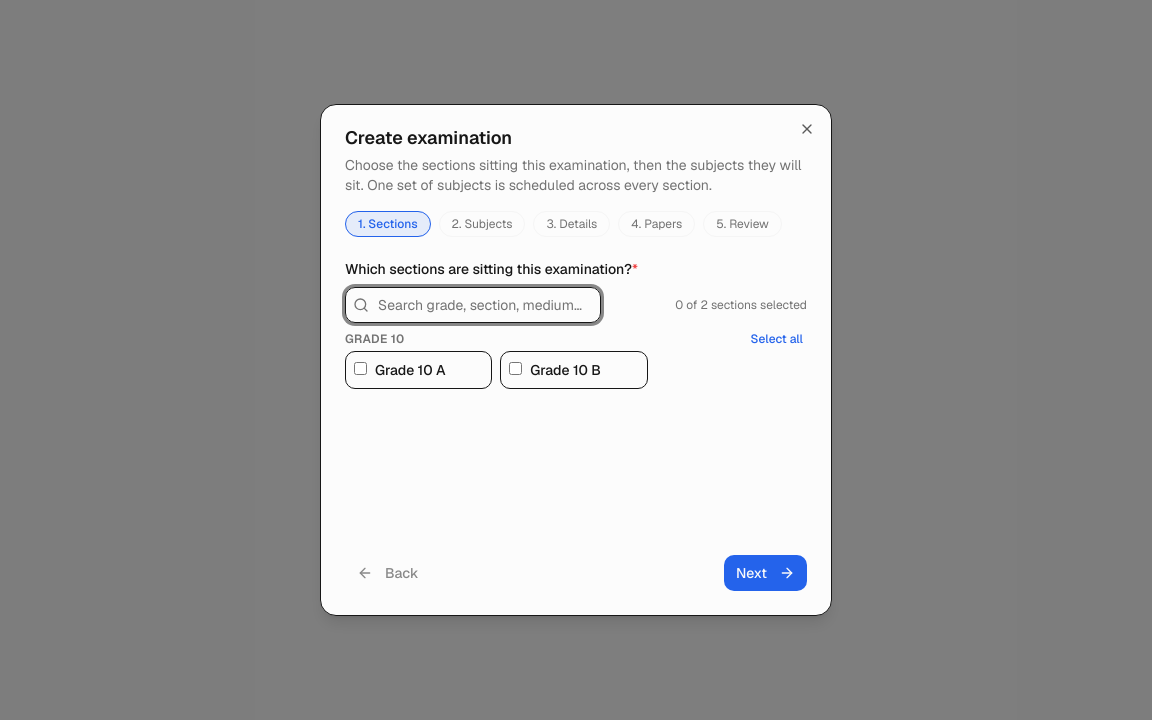
create examination wizard › refuses to move on with no section chosen
Step 1. Click the button "Next" → coordinates (765, 573), box [724,555,807,591]
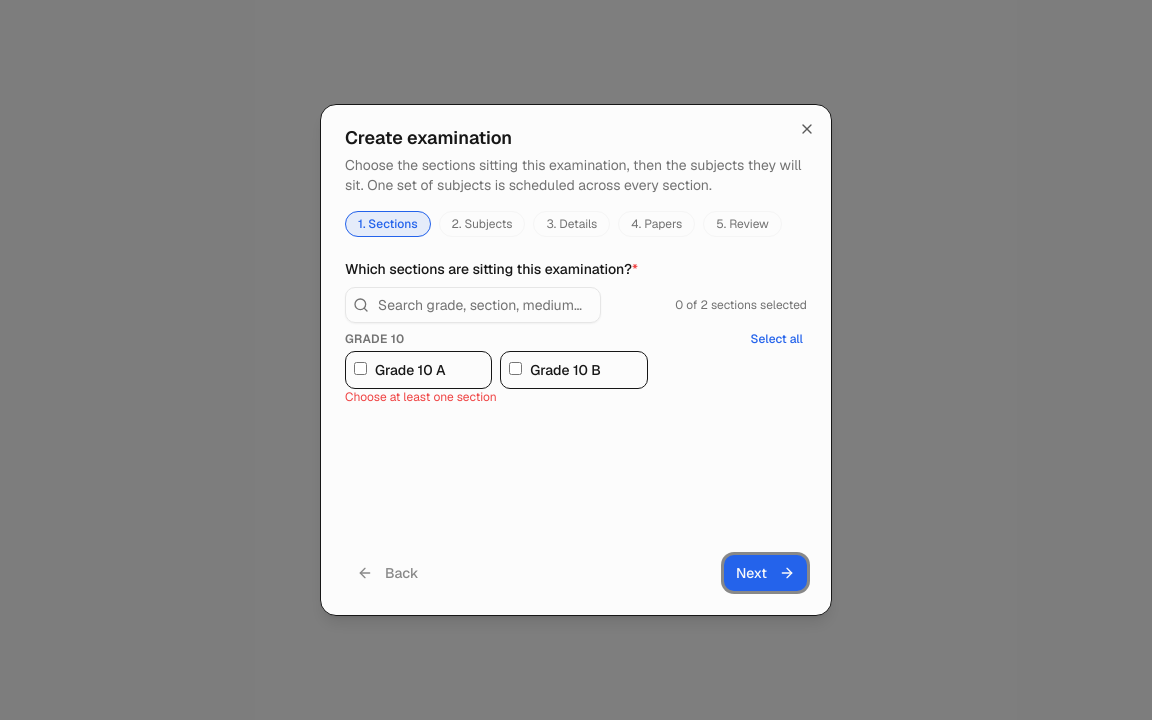
Expected: the text "Choose at least one section" is shown, [345,389,497,405]
